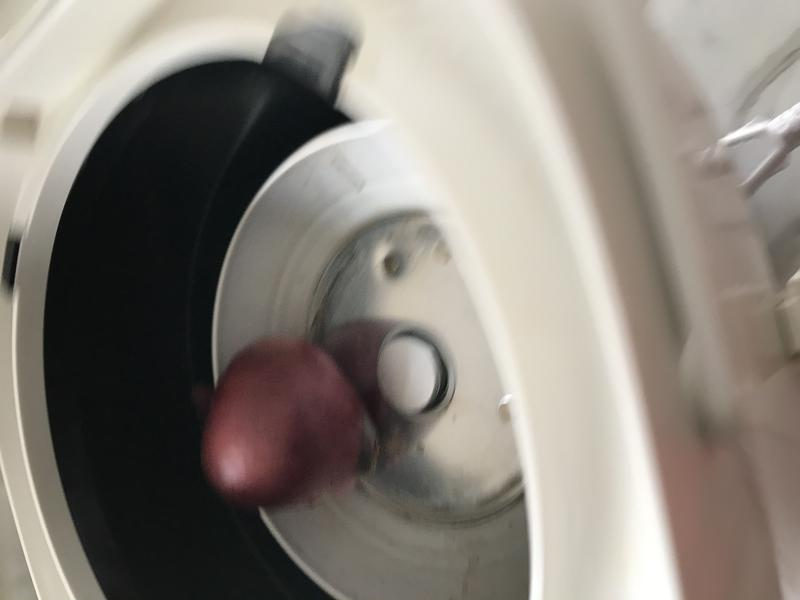purple_onion: (187, 323, 380, 522)
